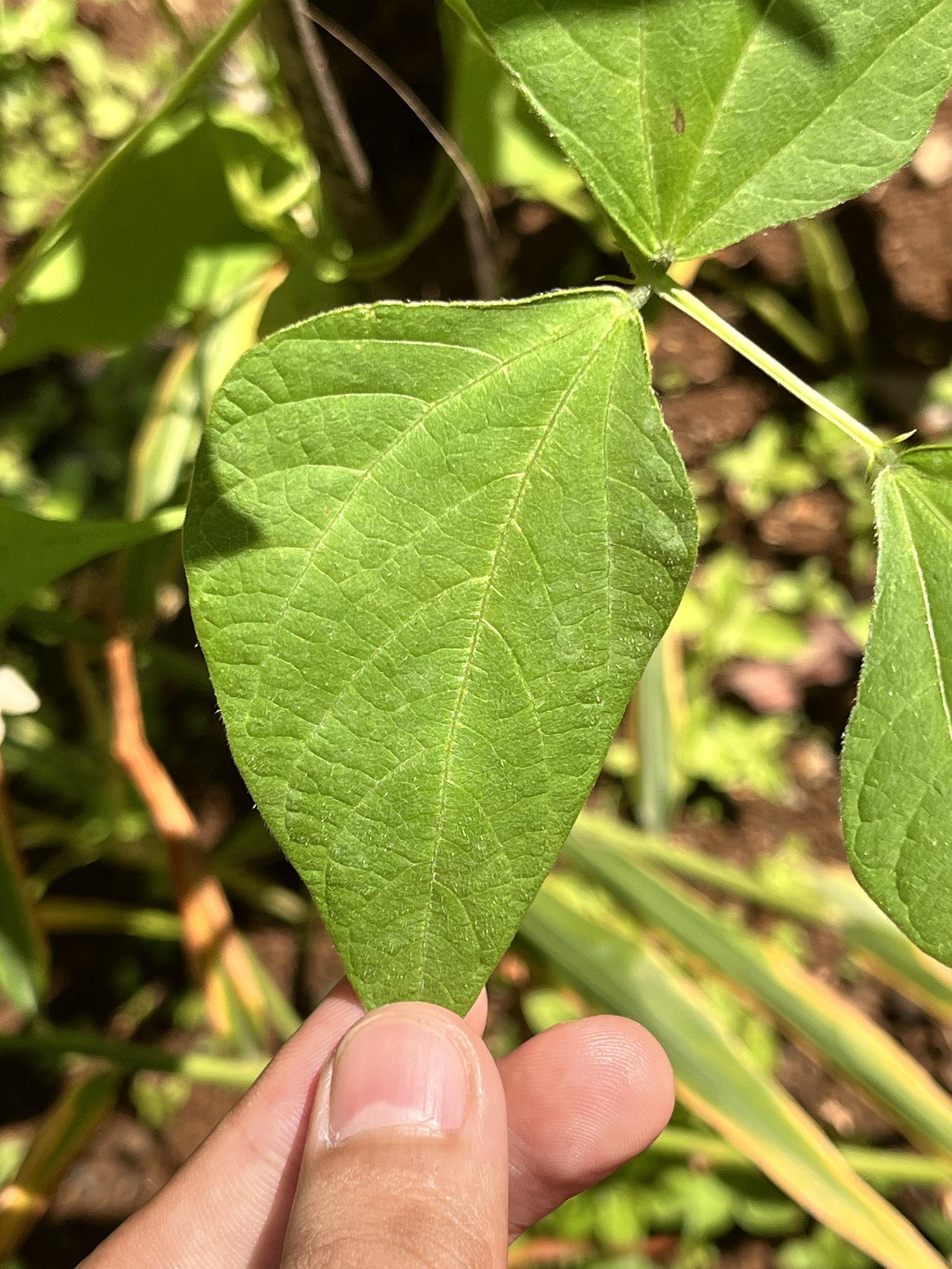sehat: (182, 284, 700, 1017)
